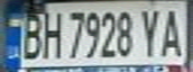2: (100, 7, 118, 58)
7: (63, 7, 84, 60)
8: (115, 6, 139, 58)
9: (81, 7, 103, 58)
A: (157, 3, 187, 59)
B: (18, 6, 45, 60)
H: (36, 4, 66, 60)
Y: (136, 5, 163, 57)
